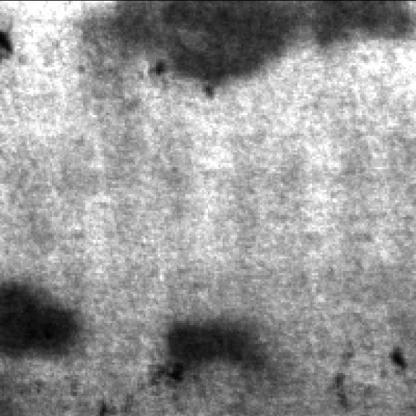patches: (131, 0, 302, 83), (4, 280, 88, 352), (168, 316, 270, 368), (314, 0, 416, 48)
